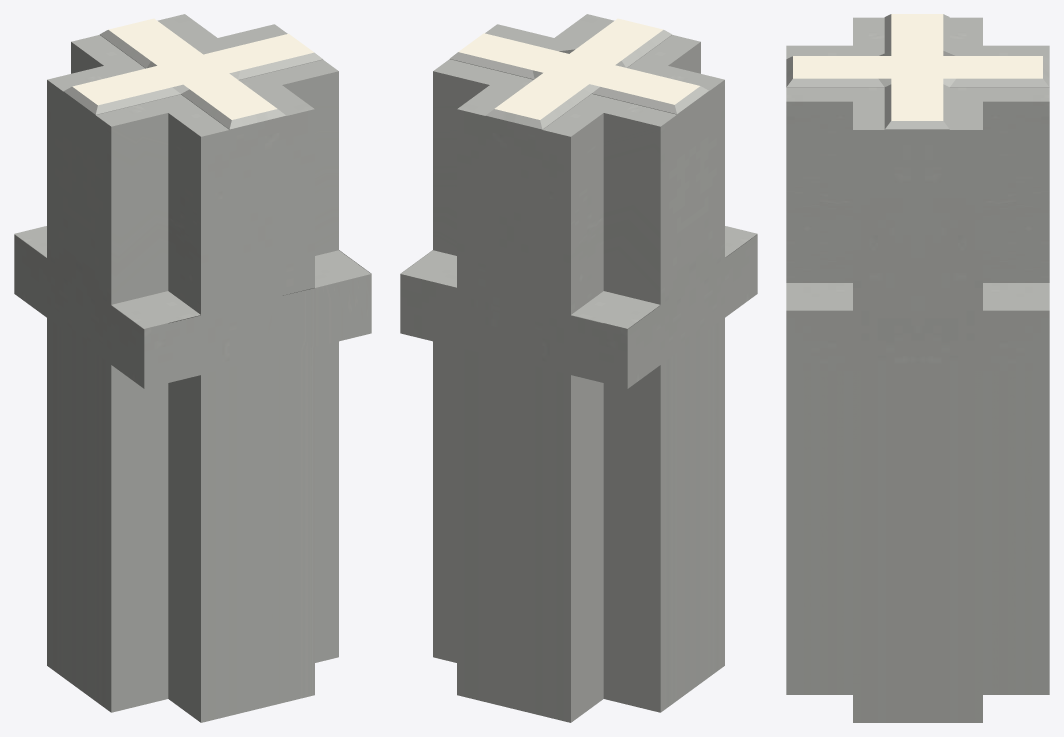
The model's file is scifi-scene-mobile.glb.
The picture shows the model from 3 angles, left to right: view 1: azimuth 30°, elevation 25°; view 2: azimuth 150°, elevation 25°; view 3: azimuth 270°, elevation 25°; orthographic projection.
Visible parts, largest first — view 1: SUBSYSTEM_POWERMODULE; view 2: SUBSYSTEM_POWERMODULE; view 3: SUBSYSTEM_POWERMODULE.
Part boxes in pixels (<box>): SUBSYSTEM_POWERMODULE: <box>14,14,371,722</box>; SUBSYSTEM_POWERMODULE: <box>400,14,757,722</box>; SUBSYSTEM_POWERMODULE: <box>786,14,1049,722</box>.
Bounding box in the file's own units: 40.34 × 100 × 39.9.
Materials: 2 (1 with a texture image).
